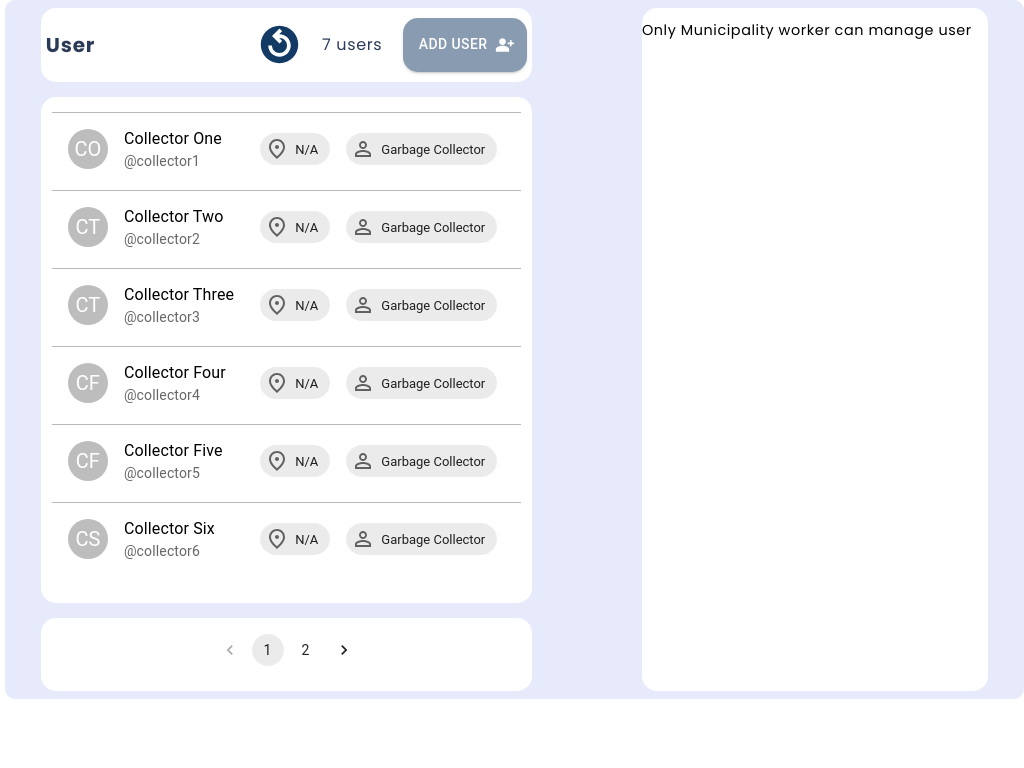
Test: User List Container › change the page when the pagination component is interacted with
The image size is (1024, 768).
Expected: the text "Collector One" is shown, [124,129,222,148]
Expected: the text "Collector Seven" is not shown
What coordinates should you click on to do the following:
click the button "2"
I would click on:
 (306, 650)
Its box is [290,634,322,666].
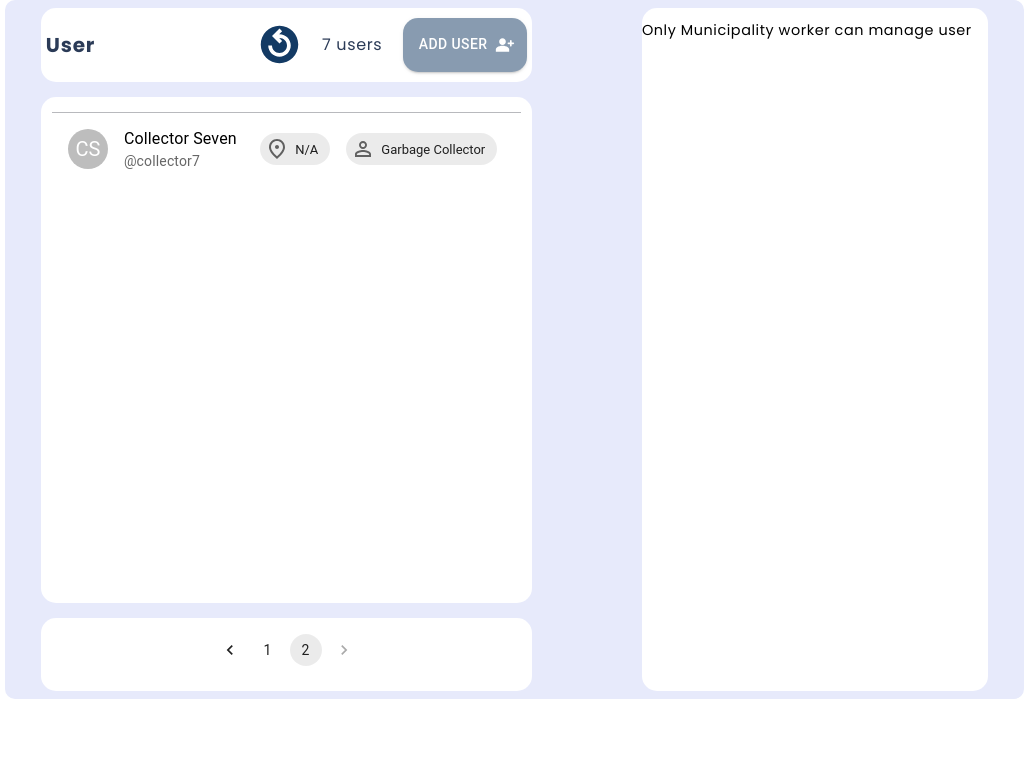
Result: the text "Collector Seven" is shown at [124,127,252,151]
Result: the text "Collector Two" is gone
